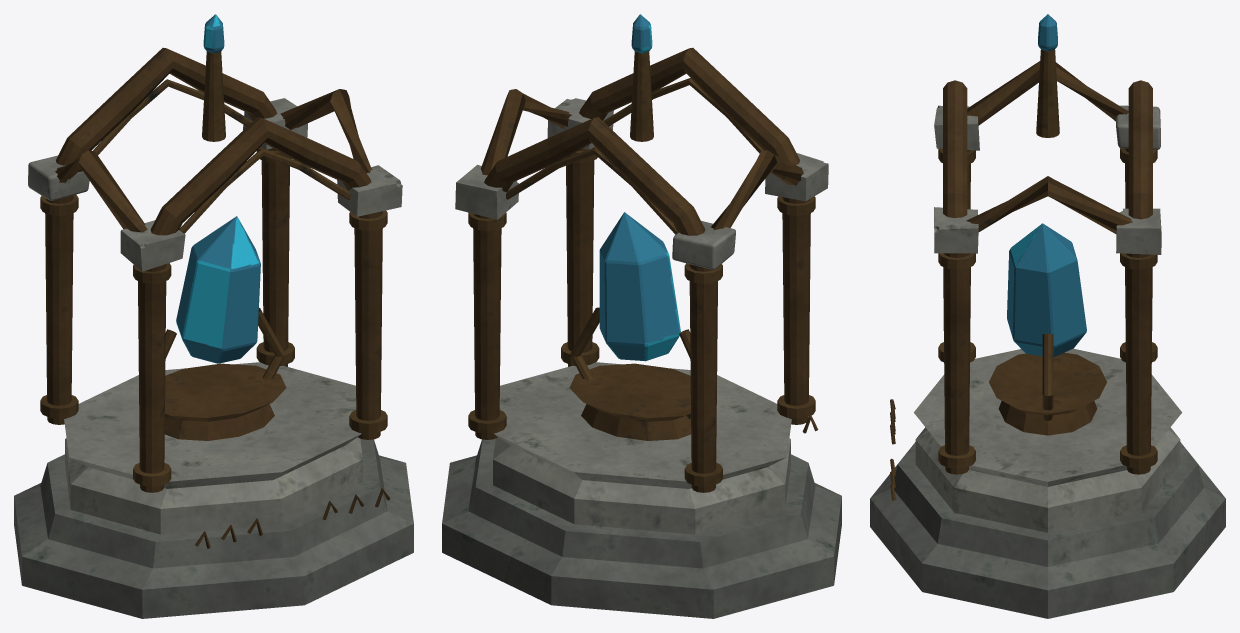
The model's file is reliquary.glb.
3 views of the same model, side by side, from view 1: azimuth 30°, elevation 25°; view 2: azimuth 150°, elevation 25°; view 3: azimuth 270°, elevation 25° (orthographic). The views are drawn at different scales.
Visible parts, largest first — view 1: Body_Baked.041; view 2: Body_Baked.041; view 3: Body_Baked.041.
Boxes of the visible parts, box(x1,y1,x2,y2) form: Body_Baked.041: box(14, 14, 413, 618); Body_Baked.041: box(442, 14, 841, 618); Body_Baked.041: box(870, 14, 1225, 618).
Bounding box in the file's own units: 2.2 × 2.87 × 1.8.
Materials: 1 (1 with a texture image).
